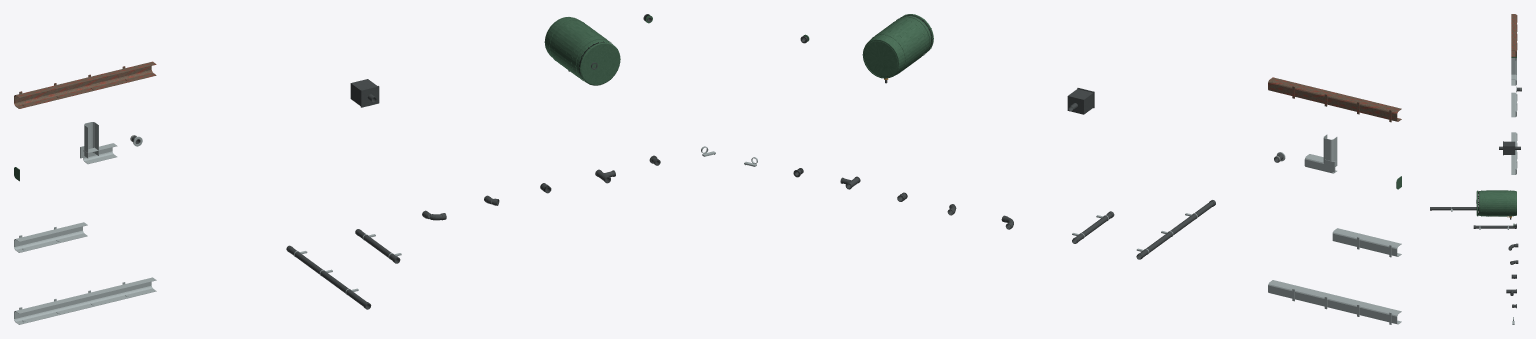
File: PZ_Rainwater_17_Module_Inspection_Catalog.glb
3 renders of one model, left to right at view 1: azimuth 30°, elevation 25°; view 2: azimuth 150°, elevation 25°; view 3: azimuth 270°, elevation 25°, orthographic. The views are drawn at different scales.
Parts seen in each view (by area): view 1: Gutter_Straight_2m__Corrugated_Seamless_Gutter_Shell, Gutter_Straight_2m_Rusted__Corrugated_Seamless_Gutter_Shell, Barrel_200L__Moulded_200L_Tank_Body, Barrel_200L__Removable_Screw_Lid, Gutter_Straight_1m__Corrugated_Seamless_Gutter_Shell, Downspout_2m__Pipe_Body_75mm; view 2: Barrel_200L__Moulded_200L_Tank_Body, Gutter_Straight_2m__Corrugated_Seamless_Gutter_Shell, Gutter_Straight_2m_Rusted__Corrugated_Seamless_Gutter_Shell, Gutter_Straight_1m__Corrugated_Seamless_Gutter_Shell, Downspout_2m__Pipe_Body_75mm, Leaf_Filter_Inline__Filter_Housing_Shell; view 3: Barrel_200L__Moulded_200L_Tank_Body, Gutter_Straight_2m_Rusted__Corrugated_Seamless_Gutter_Shell, Gutter_Straight_2m__Corrugated_Seamless_Gutter_Shell, Downspout_2m__Pipe_Body_75mm, Leaf_Filter_Inline__Filter_Housing_Shell, Downspout_1m__Pipe_Body_75mm, Gutter_Straight_1m__Corrugated_Seamless_Gutter_Shell, Gutter_Outside_Corner_90__Corner_North_Channel.
Part boxes in pixels (left/top/right/bottom): Gutter_Straight_2m__Corrugated_Seamless_Gutter_Shell: left=14, top=277, right=156, bottom=324; Gutter_Straight_2m_Rusted__Corrugated_Seamless_Gutter_Shell: left=14, top=61, right=156, bottom=108; Barrel_200L__Moulded_200L_Tank_Body: left=545, top=17, right=609, bottom=80; Barrel_200L__Removable_Screw_Lid: left=580, top=42, right=620, bottom=85; Gutter_Straight_1m__Corrugated_Seamless_Gutter_Shell: left=14, top=222, right=87, bottom=252; Downspout_2m__Pipe_Body_75mm: left=286, top=245, right=370, bottom=309; Barrel_200L__Moulded_200L_Tank_Body: left=864, top=16, right=931, bottom=77; Gutter_Straight_2m__Corrugated_Seamless_Gutter_Shell: left=1268, top=280, right=1401, bottom=324; Gutter_Straight_2m_Rusted__Corrugated_Seamless_Gutter_Shell: left=1268, top=77, right=1401, bottom=121; Gutter_Straight_1m__Corrugated_Seamless_Gutter_Shell: left=1332, top=228, right=1401, bottom=256; Downspout_2m__Pipe_Body_75mm: left=1136, top=201, right=1213, bottom=259; Leaf_Filter_Inline__Filter_Housing_Shell: left=1067, top=89, right=1093, bottom=114; Barrel_200L__Moulded_200L_Tank_Body: left=1479, top=190, right=1516, bottom=216; Gutter_Straight_2m_Rusted__Corrugated_Seamless_Gutter_Shell: left=1511, top=14, right=1516, bottom=56; Gutter_Straight_2m__Corrugated_Seamless_Gutter_Shell: left=1511, top=132, right=1516, bottom=174; Downspout_2m__Pipe_Body_75mm: left=1432, top=207, right=1478, bottom=210; Leaf_Filter_Inline__Filter_Housing_Shell: left=1504, top=141, right=1515, bottom=154; Downspout_1m__Pipe_Body_75mm: left=1475, top=225, right=1516, bottom=228; Gutter_Straight_1m__Corrugated_Seamless_Gutter_Shell: left=1511, top=92, right=1516, bottom=117; Gutter_Outside_Corner_90__Corner_North_Channel: left=1511, top=58, right=1516, bottom=74.
Bounding box in the file's own units: 10.15 × 3.18 × 2.12.
9 materials, 9 textured.
